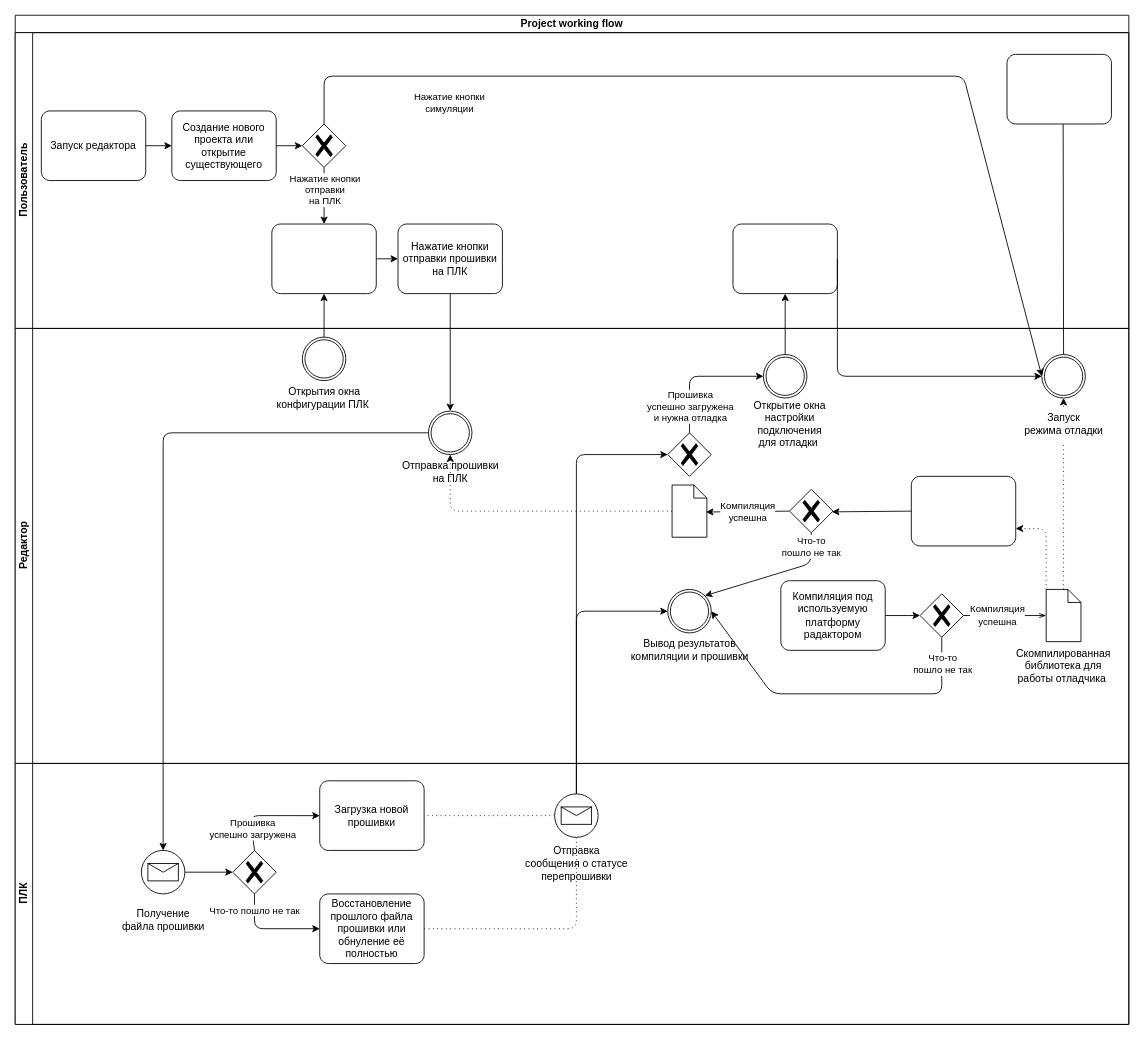
Some shapes in this 1144 by 1040 pixel diagram are drawn without their labels. The box of each missing label's shape, as (x1, y1, x2, y2) in pixels:
Ввод данных для связи и отладки с ПЛК: (732, 223, 837, 294)
Выбор желаемого устройства, конфигурация, выбор способа прошивки: (271, 223, 376, 294)
Компиляция под целевую платформу ПЛК: (910, 475, 1016, 546)
Отладка работы программы ПЛК: (1006, 54, 1111, 124)
Скомпилированная прошивка для платформы ПЛК: (671, 484, 707, 537)
